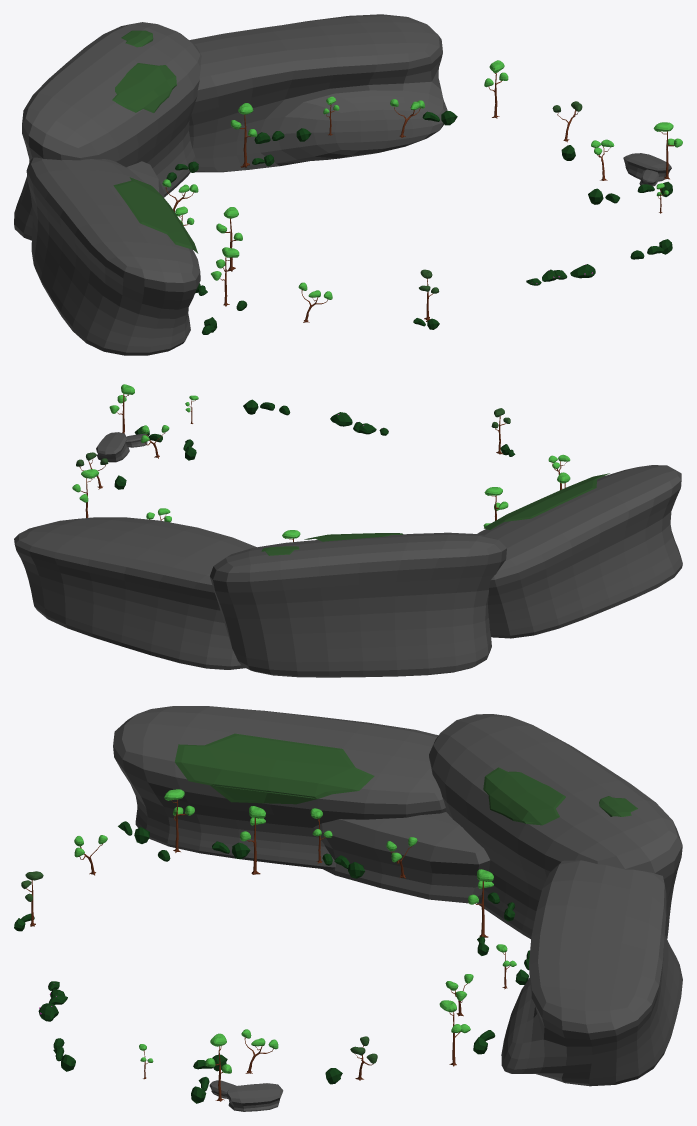
File: Bos_v1.fbx
3 views of the same model, one above another, from view 1: azimuth 30°, elevation 25°; view 2: azimuth 150°, elevation 25°; view 3: azimuth 270°, elevation 25° (orthographic). The views are drawn at different scales.
Visible parts, largest first — view 1: Cube.073, Cube.071, Cube.074, Cube.075, Cube.076, Cube.078, Cube.072; view 2: Cube.074, Cube.073, Cube.071, Cube.075, Cube.078, Cube.076; view 3: Cube.073, Cube.071, Cube.074, Cube.072, Cube.075, Cube.076, Cube.078.
Boxes of the visible parts, <box> form: Cube.073: <box>189,14,447,172</box>; Cube.071: <box>26,157,200,355</box>; Cube.074: <box>14,22,201,240</box>; Cube.075: <box>113,177,198,253</box>; Cube.076: <box>112,63,176,112</box>; Cube.078: <box>623,153,671,181</box>; Cube.072: <box>126,161,164,197</box>; Cube.074: <box>210,532,506,677</box>; Cube.073: <box>14,517,256,669</box>; Cube.071: <box>477,465,682,638</box>; Cube.075: <box>484,473,609,529</box>; Cube.078: <box>96,432,129,462</box>; Cube.076: <box>304,533,402,541</box>; Cube.073: <box>501,860,682,1086</box>; Cube.071: <box>113,706,445,869</box>; Cube.074: <box>429,714,682,938</box>; Cube.072: <box>313,812,490,903</box>; Cube.075: <box>175,733,374,804</box>; Cube.076: <box>483,767,565,825</box>; Cube.078: <box>226,1083,283,1111</box>.
Size of the model in its own units: 20872 by 4582 by 18124.
